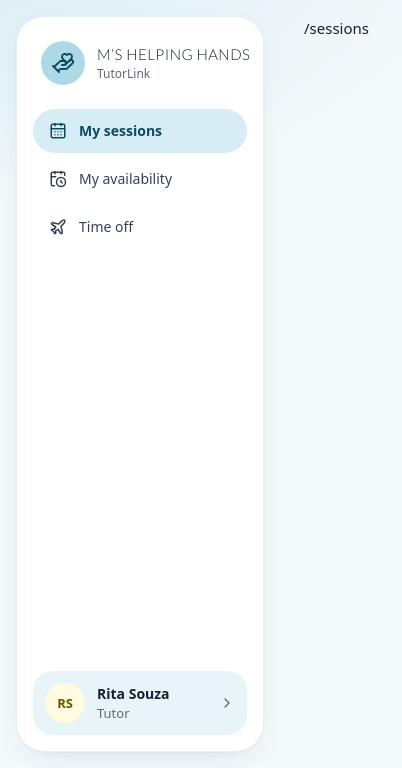
Test: app shell from 1024px › gives a Tutor their nav and never asks for counts
The image size is (402, 768).
Check: the button "Time off" is shown, box [33,205,247,249]
Click the button "My availability": coordinates (140, 179) [33,157,247,201]
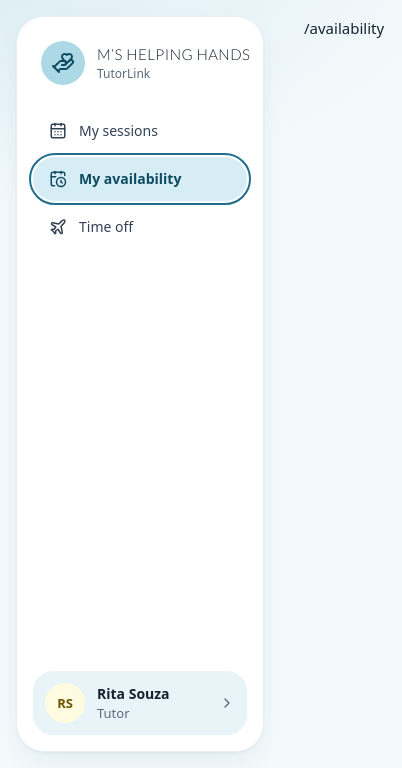
Check: the text with test id "path" reads "/availability", box [304,18,384,38]
